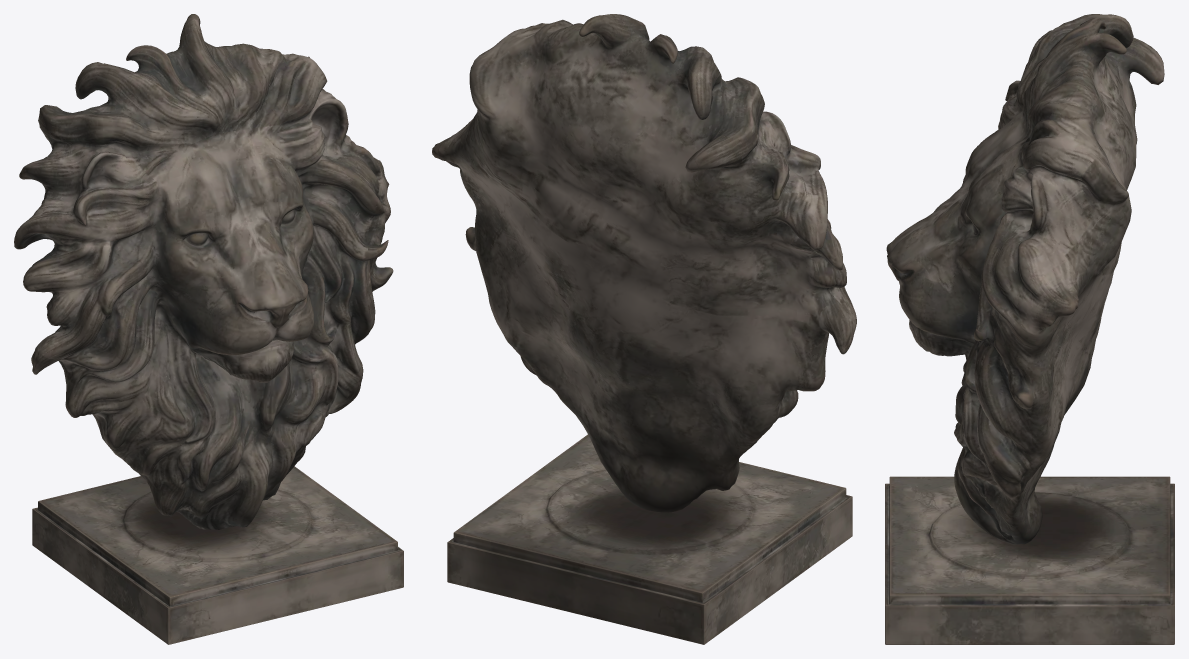
The model's file is ph-lion-bust.glb.
3 renders of one model, left to right at view 1: azimuth 30°, elevation 25°; view 2: azimuth 150°, elevation 25°; view 3: azimuth 270°, elevation 25°, orthographic. The views are drawn at different scales.
Visible parts, largest first — view 1: lion_head; view 2: lion_head; view 3: lion_head.
Part boxes in pixels (x1,y1,x2,y2): lion_head: (14, 14, 403, 644); lion_head: (432, 14, 856, 644); lion_head: (885, 14, 1174, 644).
Bounding box in the file's own units: 0.3208 × 0.4364 × 0.2066.
Materials: 1 (1 with a texture image).
